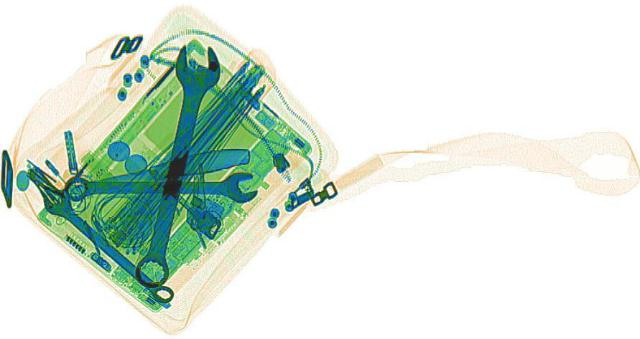Knife: (46, 143, 258, 198)
Wrench: (128, 45, 224, 286), (32, 190, 182, 304), (60, 170, 256, 205)
